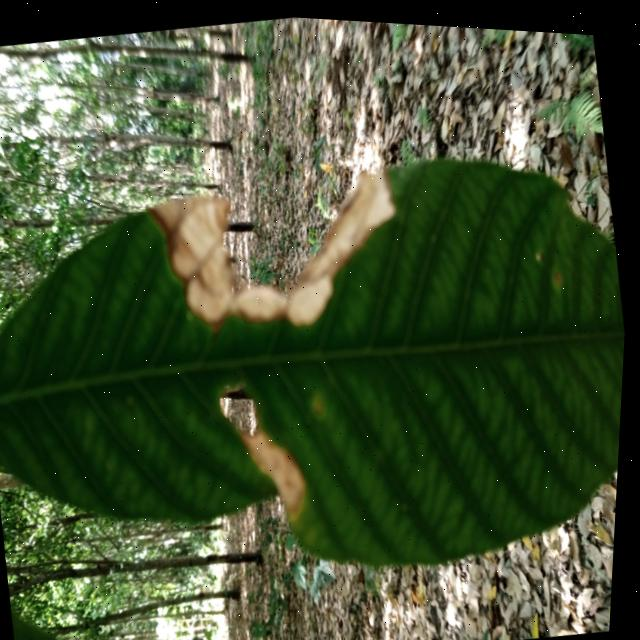Leaf-Blight: (142, 152, 416, 351), (239, 416, 317, 521)
